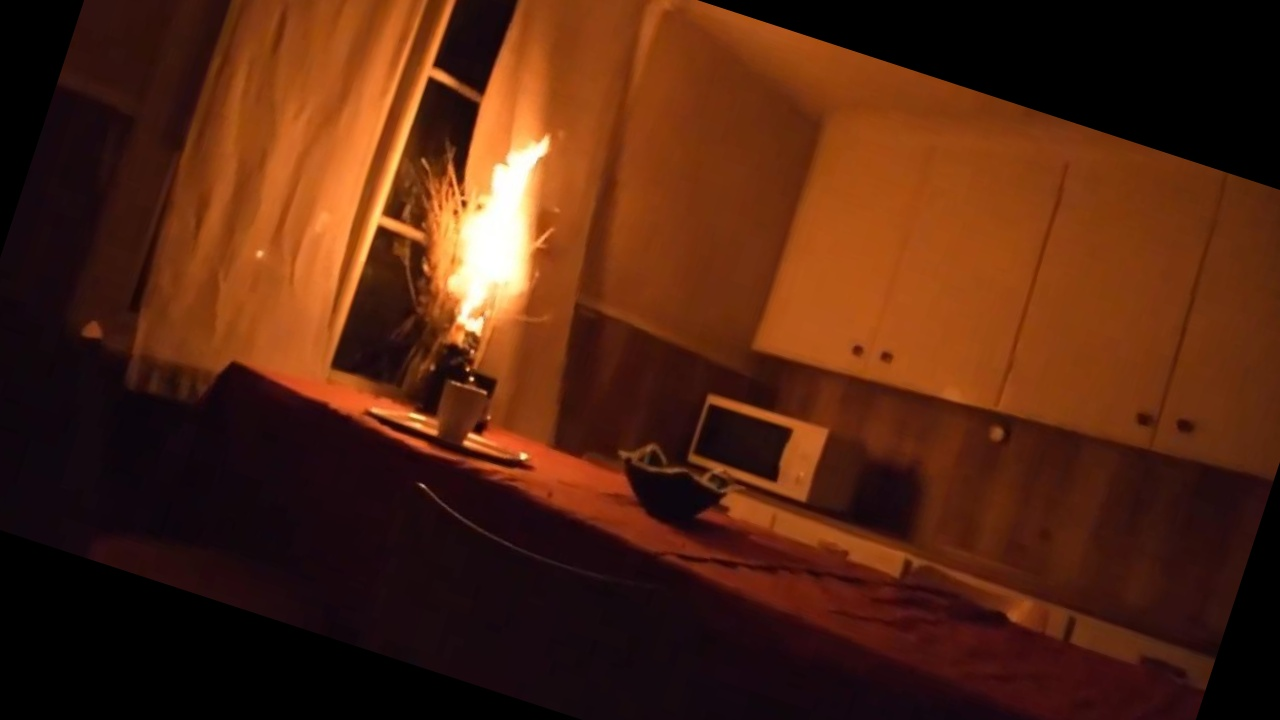fire: (392, 82, 634, 387)
